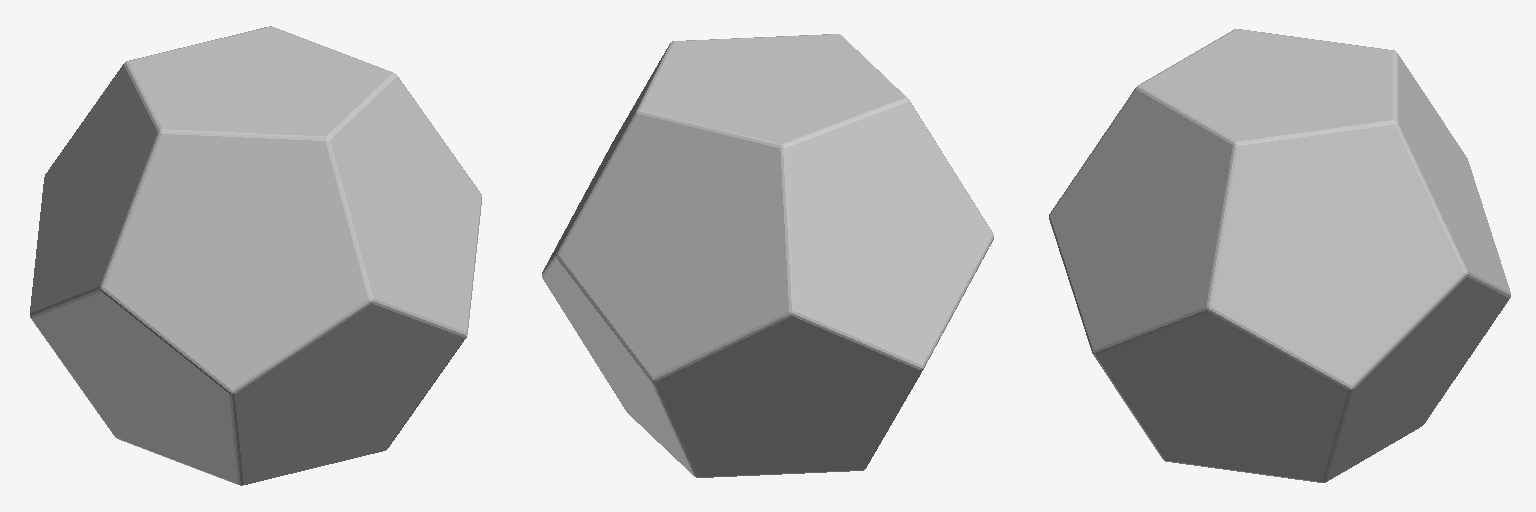
3 renders of one model, left to right at view 1: azimuth 30°, elevation 25°; view 2: azimuth 150°, elevation 25°; view 3: azimuth 270°, elevation 25°, orthographic.
Parts seen in each view (by area): view 1: Dodecahedron_2In.002; view 2: Dodecahedron_2In.002; view 3: Dodecahedron_2In.002.
Part boxes in pixels (bbox=[...]): Dodecahedron_2In.002: bbox=[30, 26, 481, 485]; Dodecahedron_2In.002: bbox=[542, 34, 993, 477]; Dodecahedron_2In.002: bbox=[1049, 29, 1510, 482].
Size of the model in its own units: 0.6837 by 0.5842 by 0.7177.